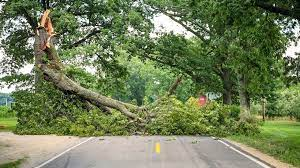obstacle: (33, 63, 255, 138)
